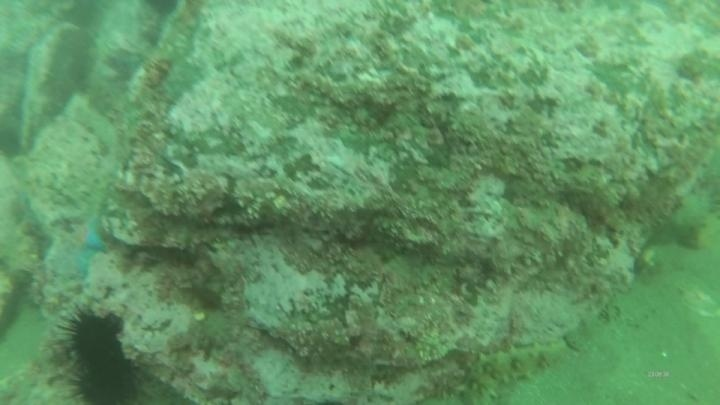echinus: (57, 307, 142, 374), (65, 349, 145, 404)
holothurian: (457, 336, 571, 402)
starfish: (57, 210, 111, 282)
